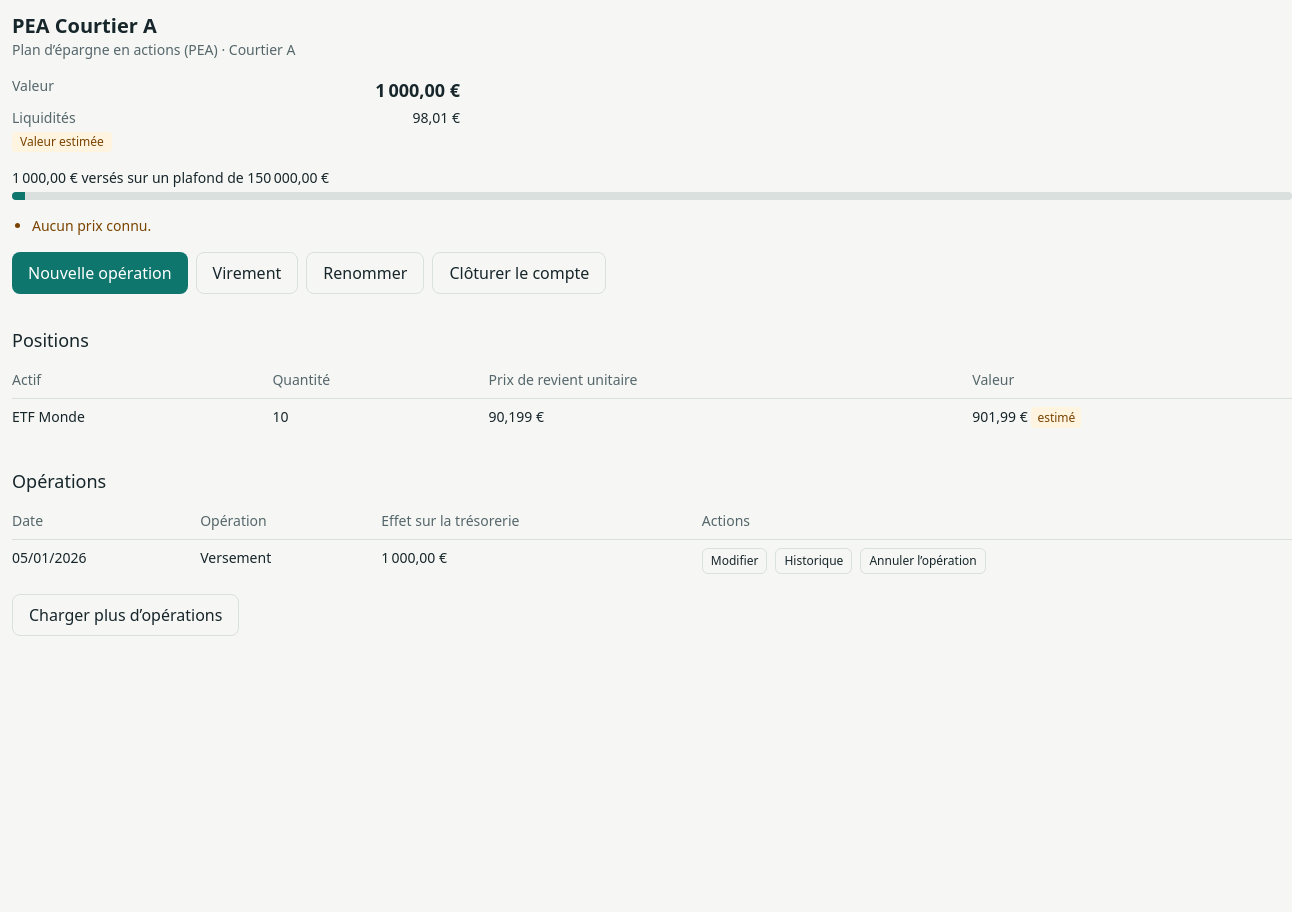
Test case: opérations › charge la page suivante quand il y en a une
The image size is (1292, 912).
Check: the table named "Opérations" is shown, box [12, 503, 1291, 582]
Click the button "Charger plus d’opérations" at (126, 615), box [12, 594, 239, 636]
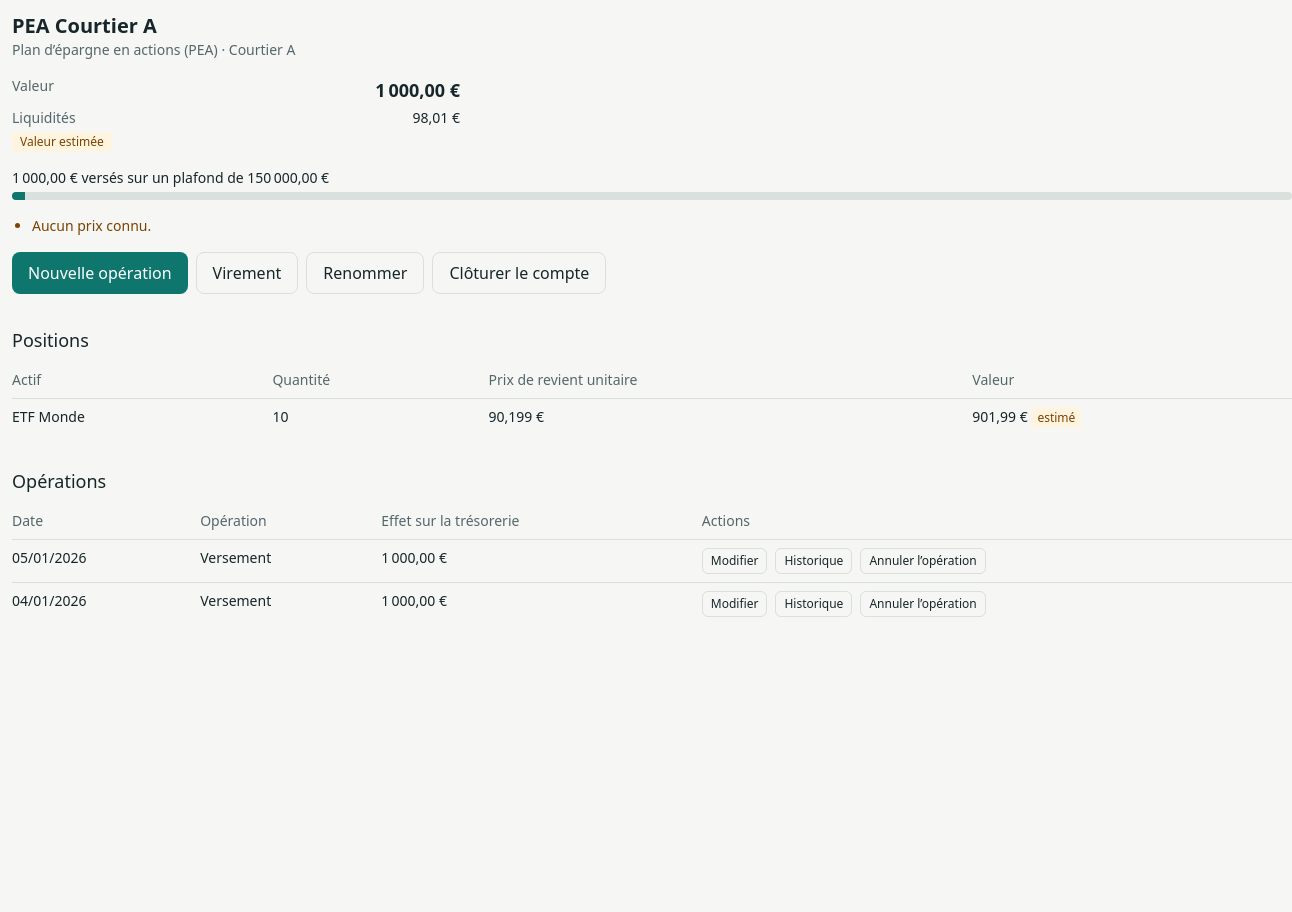
Check: the text "Versement" is shown 2 times, box [200, 548, 271, 567]; [200, 591, 271, 610]
